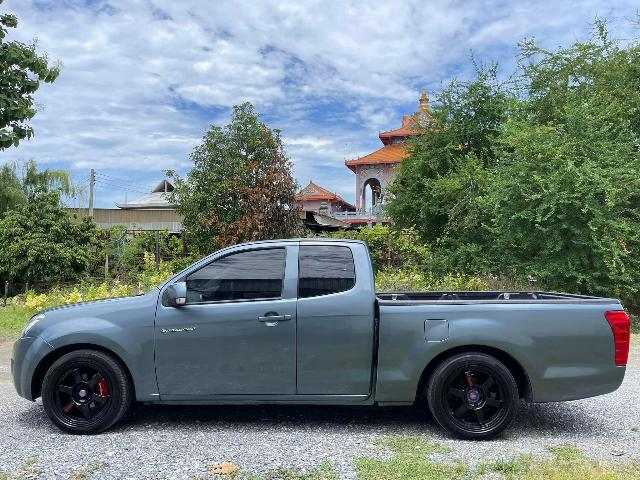pickup-truck: (5, 229, 639, 450)
